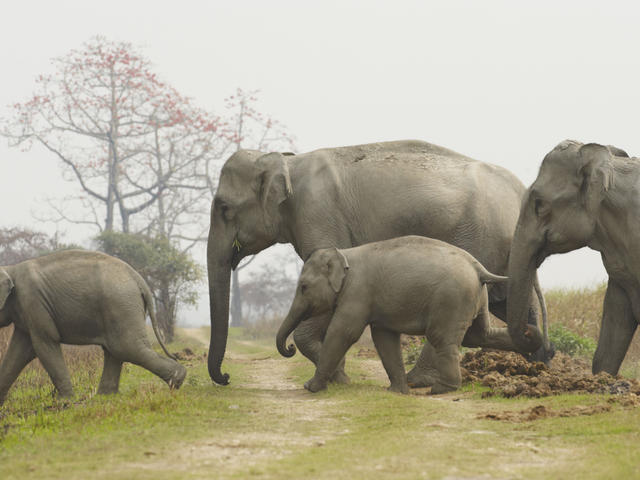elephant: (198, 142, 556, 388), (267, 230, 516, 400), (500, 126, 640, 389), (1, 246, 189, 406)
